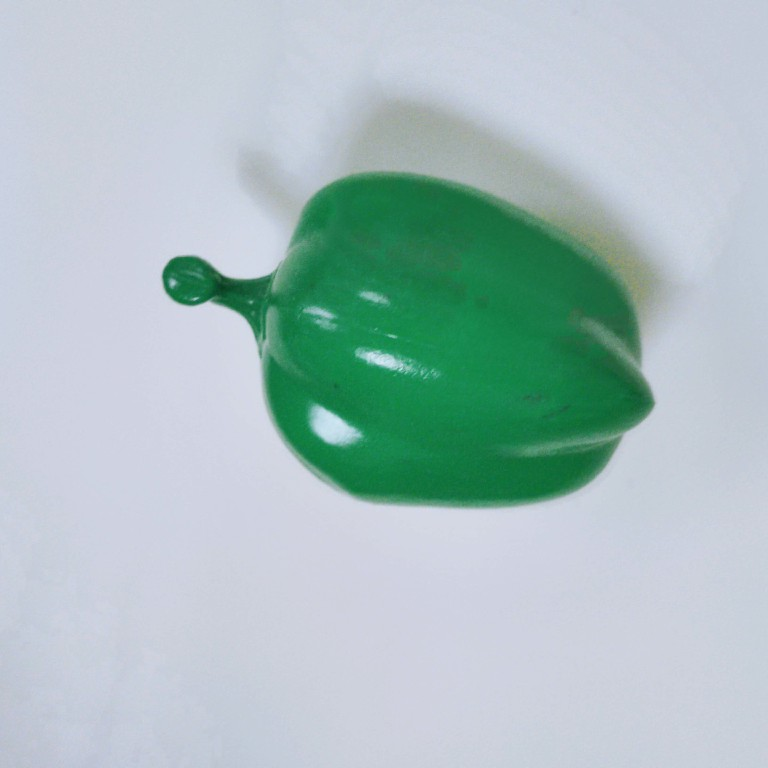fruit_pepper: (157, 168, 660, 515)
